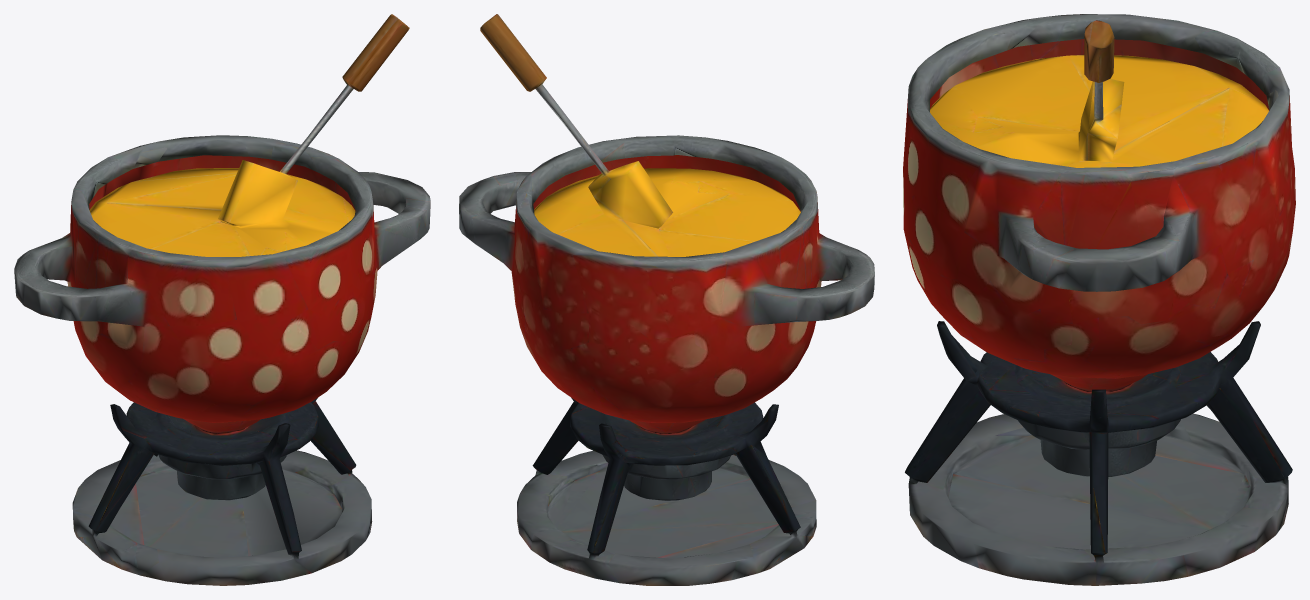
The model's file is token-fondue.glb.
3 views of the same model, side by side, from view 1: azimuth 30°, elevation 25°; view 2: azimuth 150°, elevation 25°; view 3: azimuth 270°, elevation 25° (orthographic). The views are drawn at different scales.
Bounding box in the file's own units: 1.7 × 1.9 × 1.14.
1 material, 1 textured.
